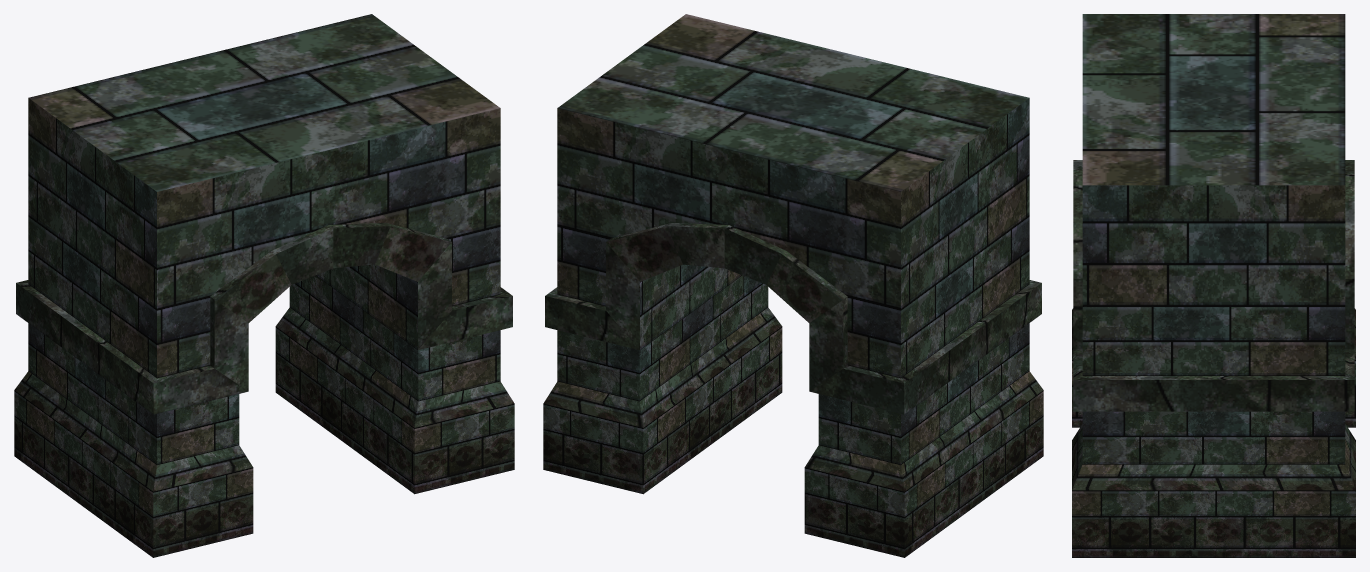
Rendered from SM_CastleBridgeOpening1x1.fbx.
3 renders of one model, left to right at view 1: azimuth 30°, elevation 25°; view 2: azimuth 150°, elevation 25°; view 3: azimuth 270°, elevation 25°, orthographic. The views are drawn at different scales.
Visible parts, largest first — view 1: SM_CastleBridgeOpening1x1; view 2: SM_CastleBridgeOpening1x1; view 3: SM_CastleBridgeOpening1x1.
Part boxes in pixels (x1,y1,x2,y2): SM_CastleBridgeOpening1x1: (14, 14, 514, 557); SM_CastleBridgeOpening1x1: (543, 14, 1043, 557); SM_CastleBridgeOpening1x1: (1072, 14, 1355, 557).
Bounding box in the file's own units: 2100 × 2000 × 1398.
